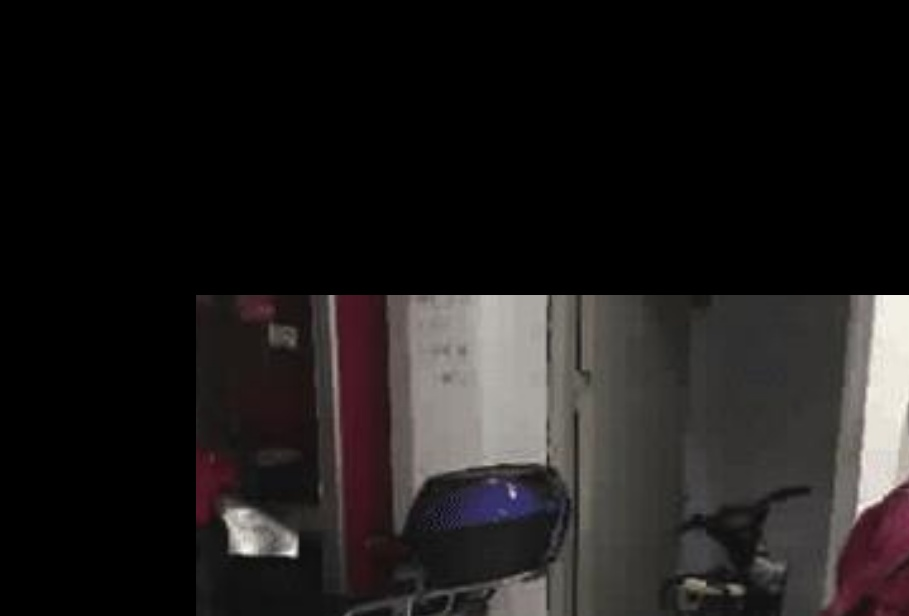ebike: (194, 464, 565, 616), (665, 504, 817, 616)
